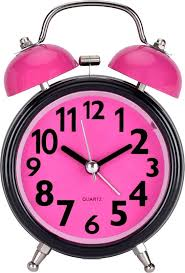alarm_clock: (6, 3, 184, 270)
